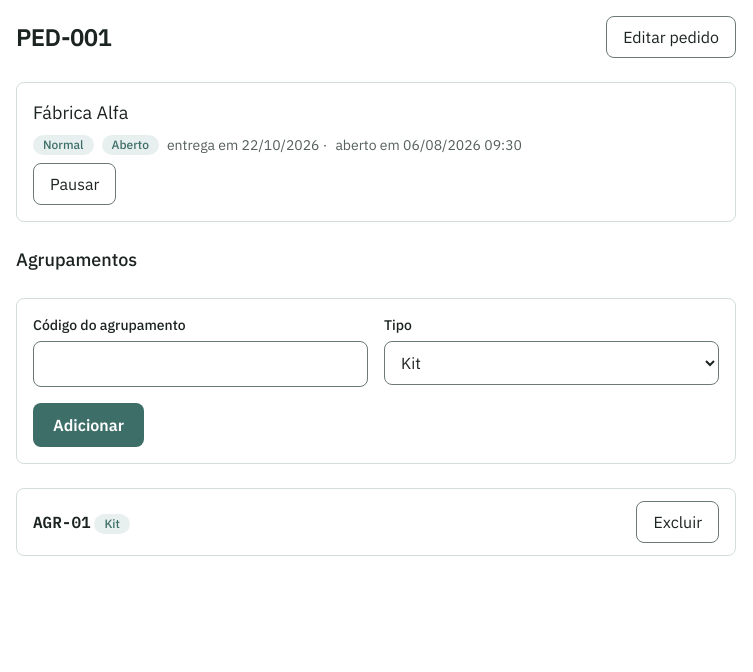
Test case: PedidoDetalhePage › pausa do Pedido › pausar recarrega o Pedido: a pilula e o Retomar aparecem sem sair da tela
This screenshot has width=753, height=672.
Click the button "Pausar". click: click(75, 184)
box: [33,163,116,205]
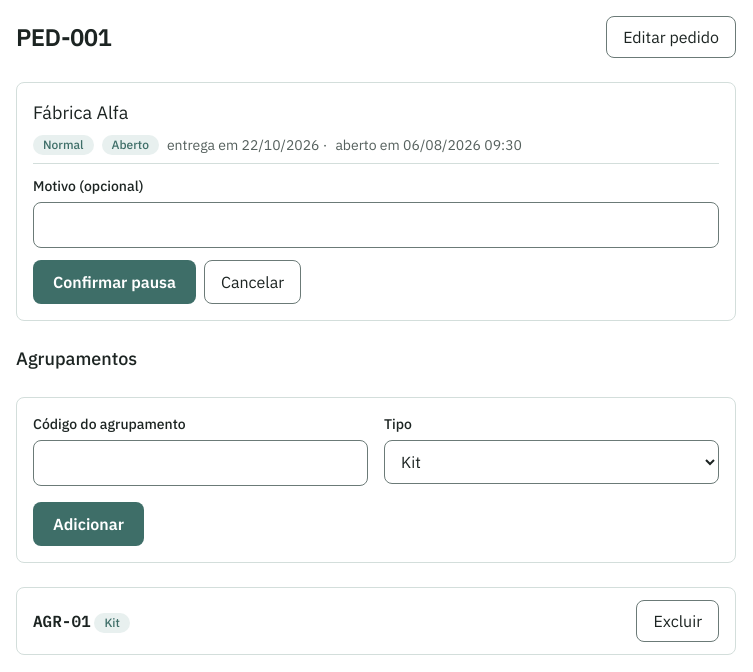
Click the button "Confirmar pausa". click: click(114, 282)
box: [33,260,196,304]
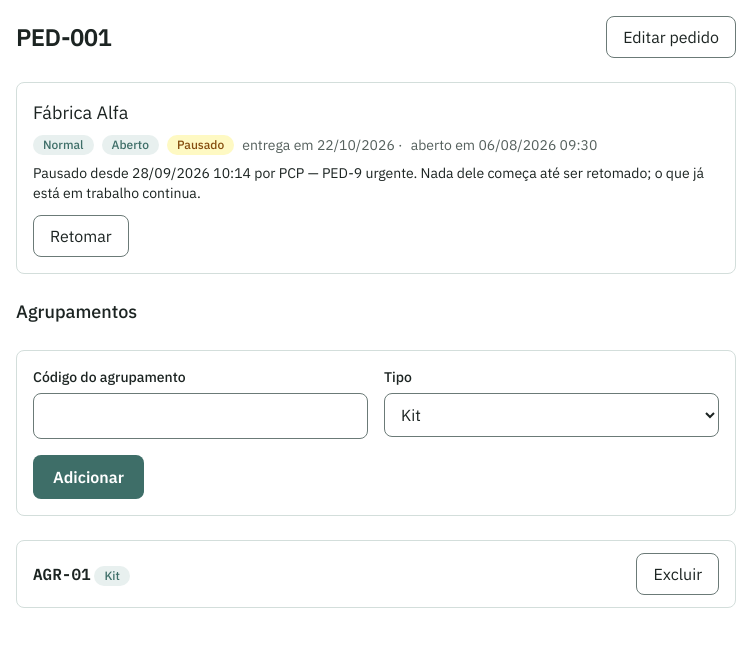
Result: the button "Retomar" is shown at [33,215,129,257]
Result: the text "Pausado" is shown at [167,135,234,155]
